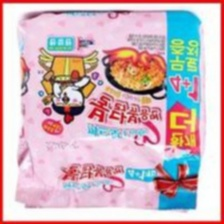snack: (6, 4, 212, 218)
